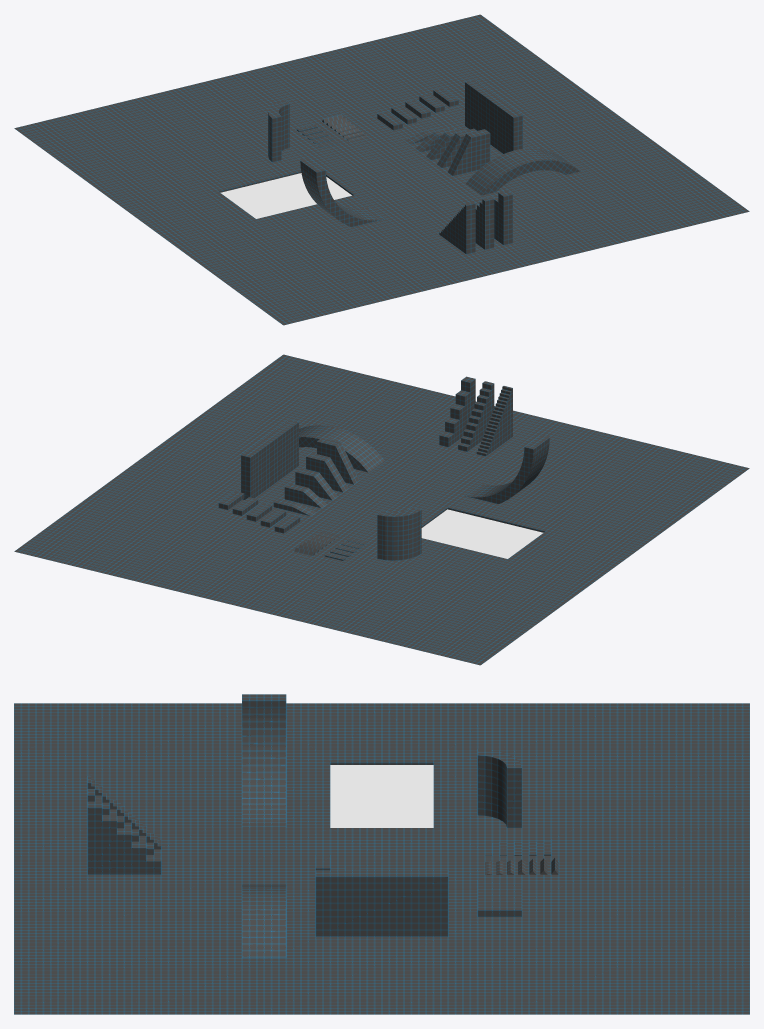
3 renders of one model, top to bottom at view 1: azimuth 30°, elevation 25°; view 2: azimuth 150°, elevation 25°; view 3: azimuth 270°, elevation 25°, orthographic. The views are drawn at different scales.
Visible parts, largest first — view 1: floor, water, wall, ramp_2, ramp_1, shelves, slope_5, stairs_1, ramp_3, stairs_3, stairs_2, hills_1; view 2: floor, water, wall, ramp_3, ramp_1, ramp_2, shelves, stairs_1, stairs_3, stairs_2, slope_5, slope_4 (+2 smaller); view 3: floor, wall, water, ramp_1, stairs_3, ramp_2, ramp_3, shelves, stairs_1, hills_1, stairs_2, hills_3.
Part boxes in pixels (x1,y1,x2,y2): floor: (14,14,749,325); water: (220,173,351,218); wall: (465,80,522,153); ramp_2: (465,148,580,195); ramp_1: (300,158,385,227); shelves: (377,88,458,130); slope_5: (447,129,490,176); stairs_1: (439,202,475,254); ramp_3: (268,100,289,162); stairs_3: (494,190,512,245); stairs_2: (475,197,494,249); hills_1: (322,114,366,140); floor: (14,354,749,665); water: (421,509,543,558); wall: (241,420,298,499); ramp_3: (377,507,421,560); ramp_1: (464,435,549,503); ramp_2: (299,425,384,472); shelves: (218,491,300,533); stairs_1: (476,386,512,456); stairs_3: (439,376,475,447); stairs_2: (458,381,494,451); slope_5: (317,437,359,484); slope_4: (306,453,348,492); floor: (14,703,749,1014); wall: (315,870,448,936); water: (330,765,433,827); ramp_1: (242,694,286,827); stairs_3: (87,801,161,874); ramp_2: (242,884,286,957); ramp_3: (477,749,521,827); shelves: (477,880,521,916); stairs_1: (87,776,161,849); hills_1: (485,858,558,874); stairs_2: (87,789,161,854); hills_3: (485,841,551,855).
Size of what is drawn, in the model's own units: 100 by 23 by 100.
Materials: 2 (1 with a texture image).
